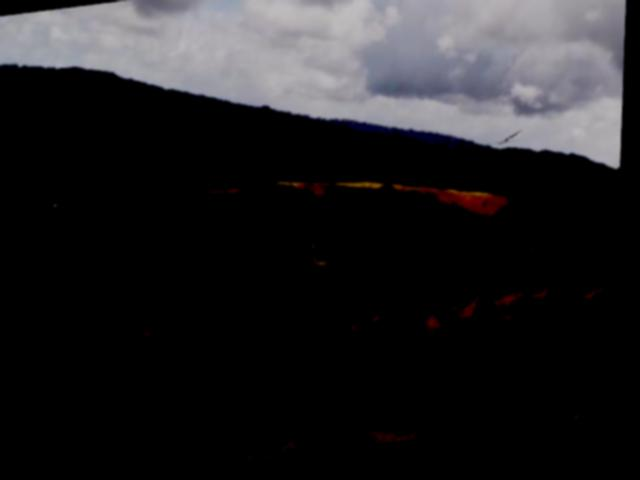iha: (497, 139, 526, 154)
